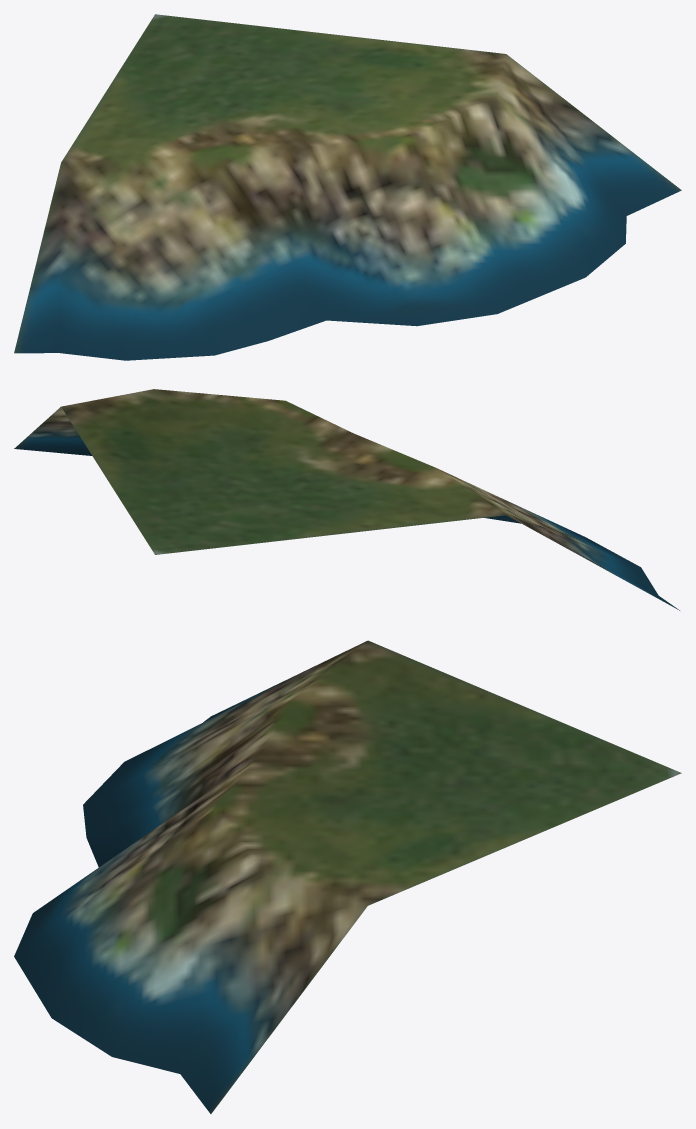
Rendered from Terrain@71.FBX.
3 renders of one model, top to bottom at view 1: azimuth 30°, elevation 25°; view 2: azimuth 150°, elevation 25°; view 3: azimuth 270°, elevation 25°, orthographic. The views are drawn at different scales.
Parts seen in each view (by area): view 1: Terrain@71; view 2: Terrain@71; view 3: Terrain@71.
Part boxes in pixels (x1,y1,x2,y2): Terrain@71: (14, 14, 681, 360); Terrain@71: (14, 389, 679, 610); Terrain@71: (14, 640, 681, 1113).
Size of the model in its own units: 106 by 17.68 by 75.21.
